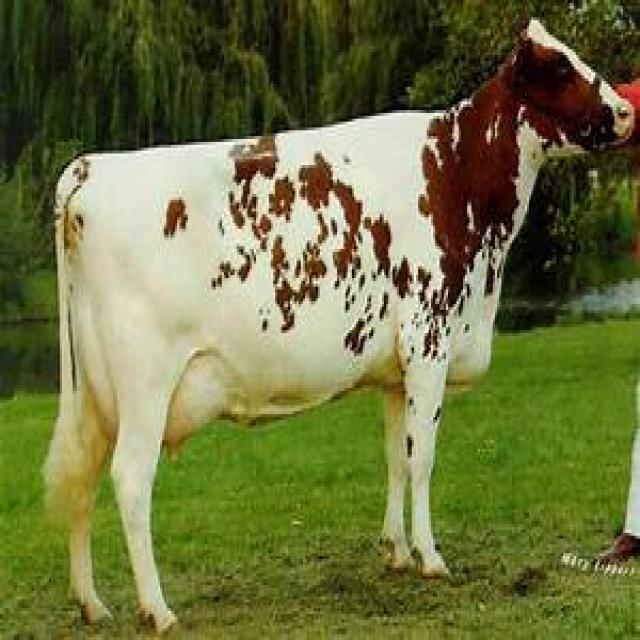cow: (57, 21, 632, 626)
